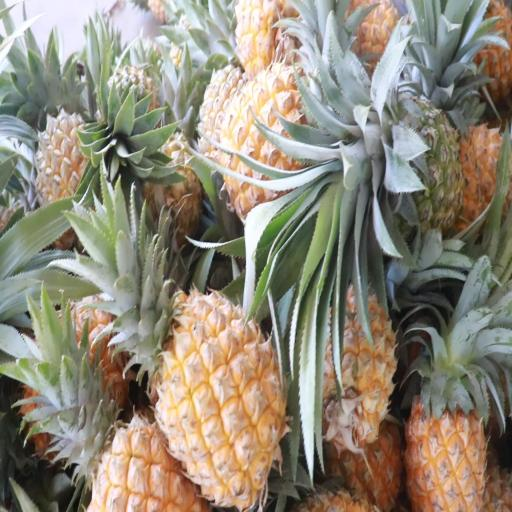Pineapple - v8 v1: (142, 290, 294, 505), (225, 60, 366, 220), (406, 295, 496, 512)
